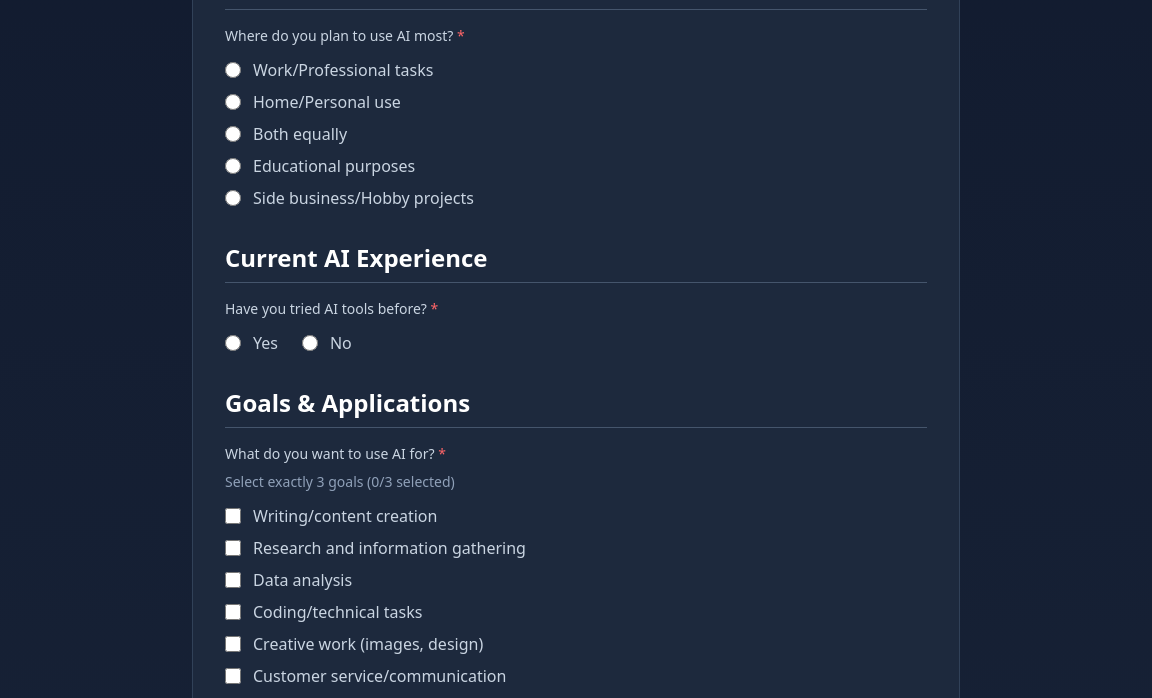
Scenario: Register Component - Extended Form › Usage & Comfort Level Section › renders all 5 comfort level options
The width and height of the screenshot is (1152, 698).
(page scrolled)
// Click Yes to show the section
Click the radio button labelled "Yes": (233, 343) [225,335,241,351]
(page scrolled)
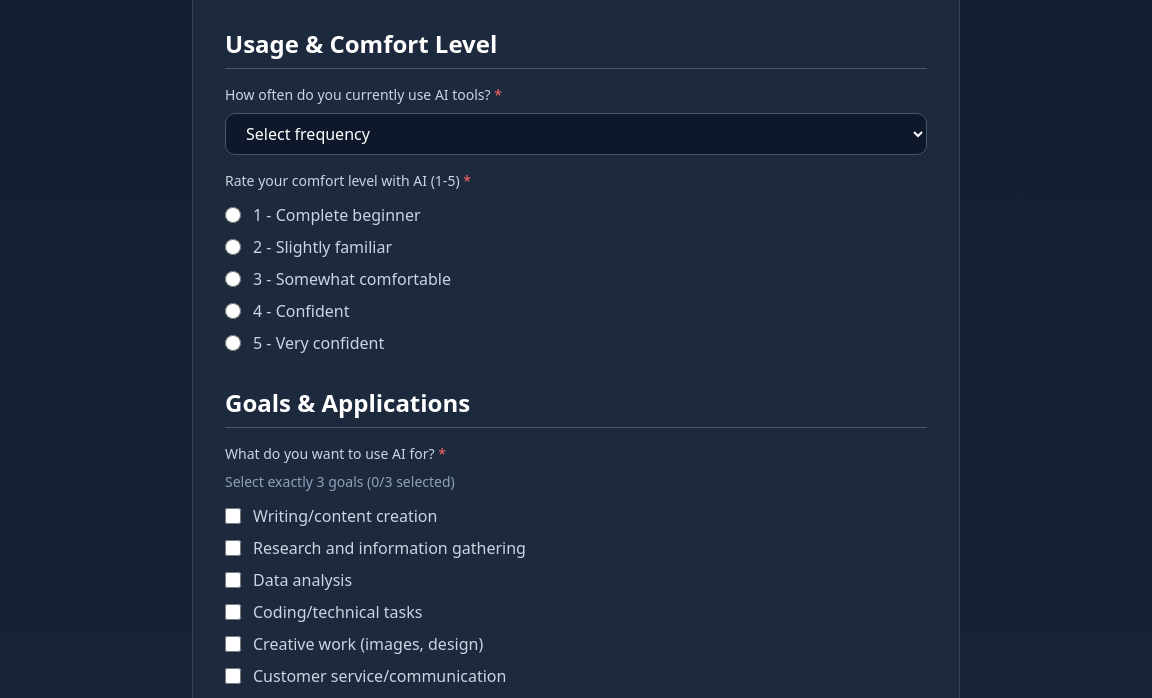
Result: the radio button labelled "1 - Complete beginner" is shown at [225,207,241,223]
Result: the radio button labelled "2 - Slightly familiar" is shown at [225,239,241,255]
Result: the radio button labelled "3 - Somewhat comfortable" is shown at [225,271,241,287]
